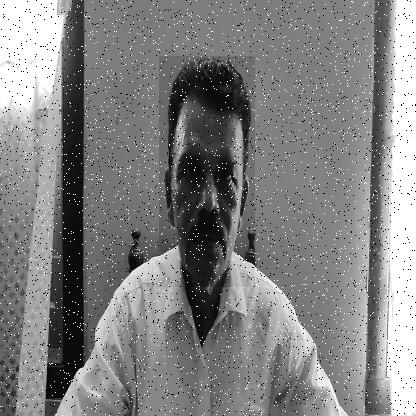Normal: (158, 56, 254, 287)
